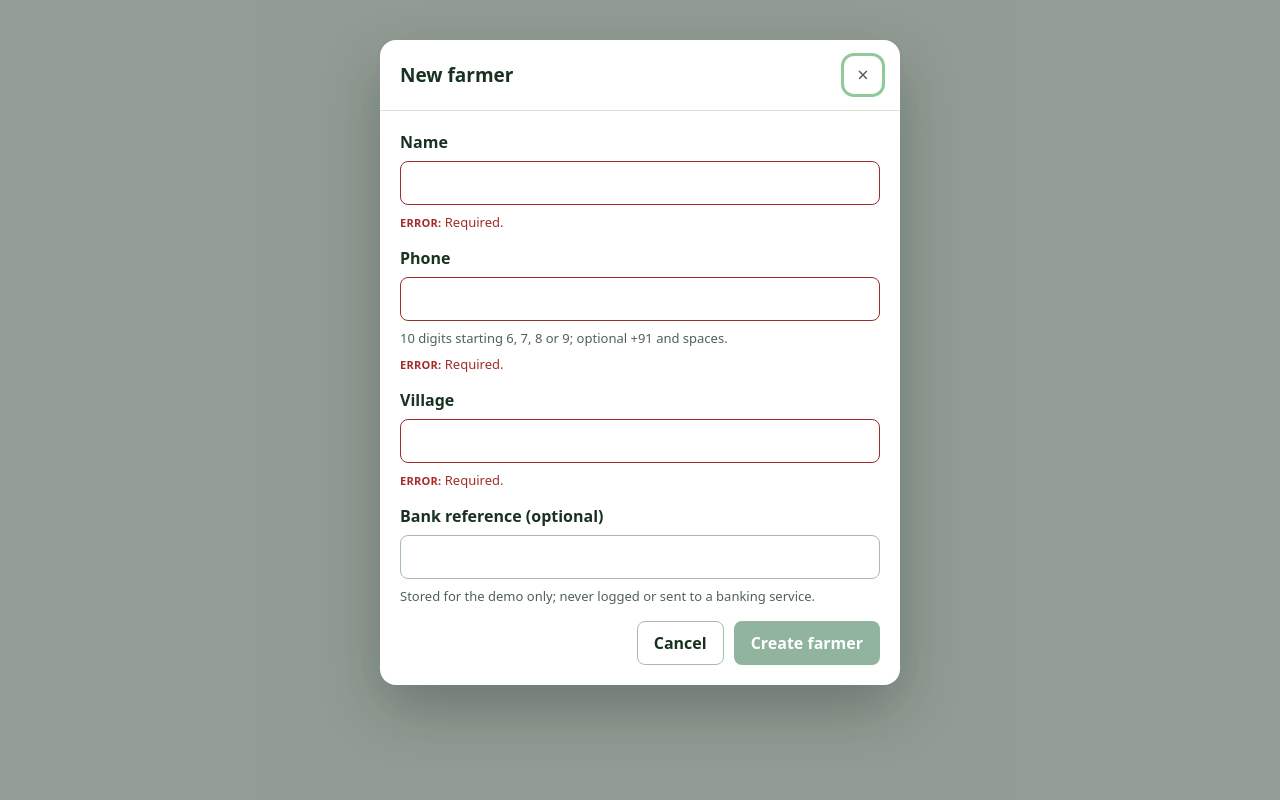
it: FarmerForm › maps a rejected phone onto its field and preserves the values
Type "Asha" into the field labelled "Name" at [640, 183], box [400,161,880,205]
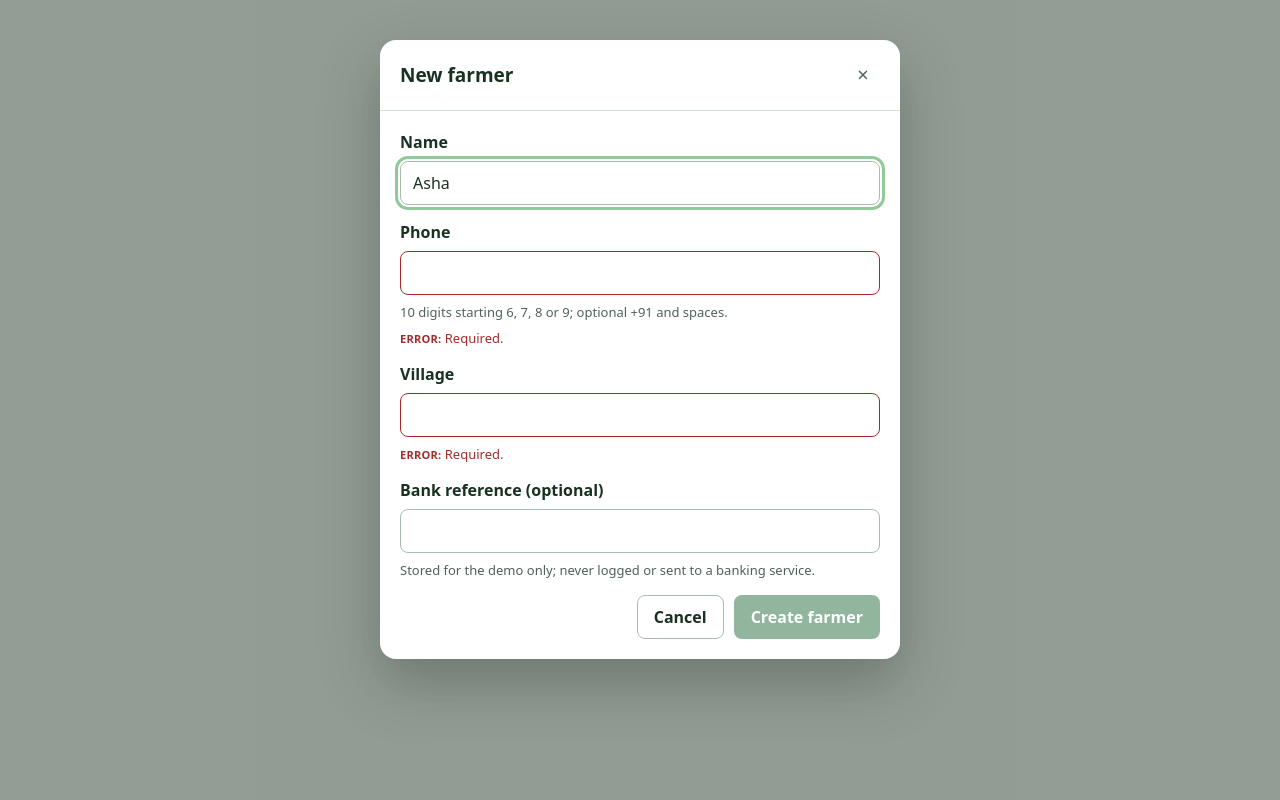
Type "9000000001" into the field labelled "Phone" at [640, 273], box [400,251,880,295]
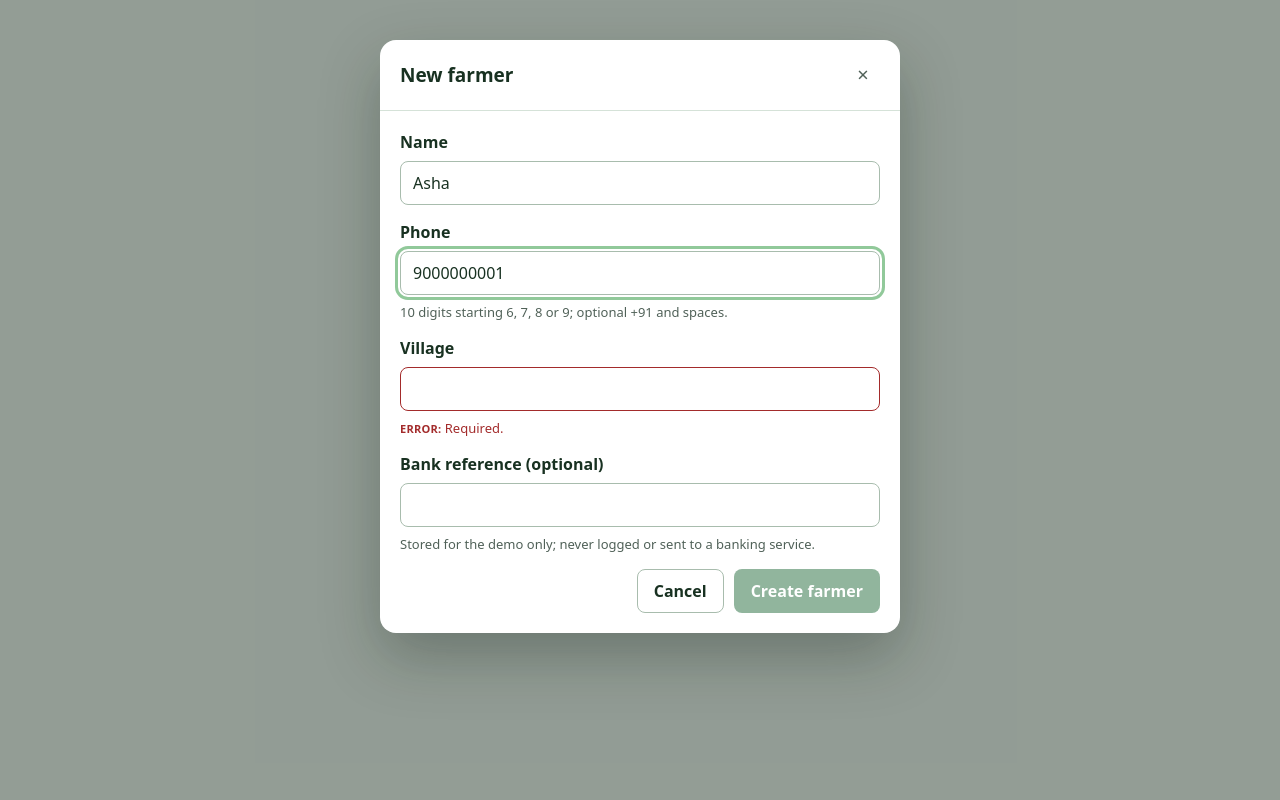
Type "Kolar" into the field labelled "Village" at [640, 389], box [400,367,880,411]
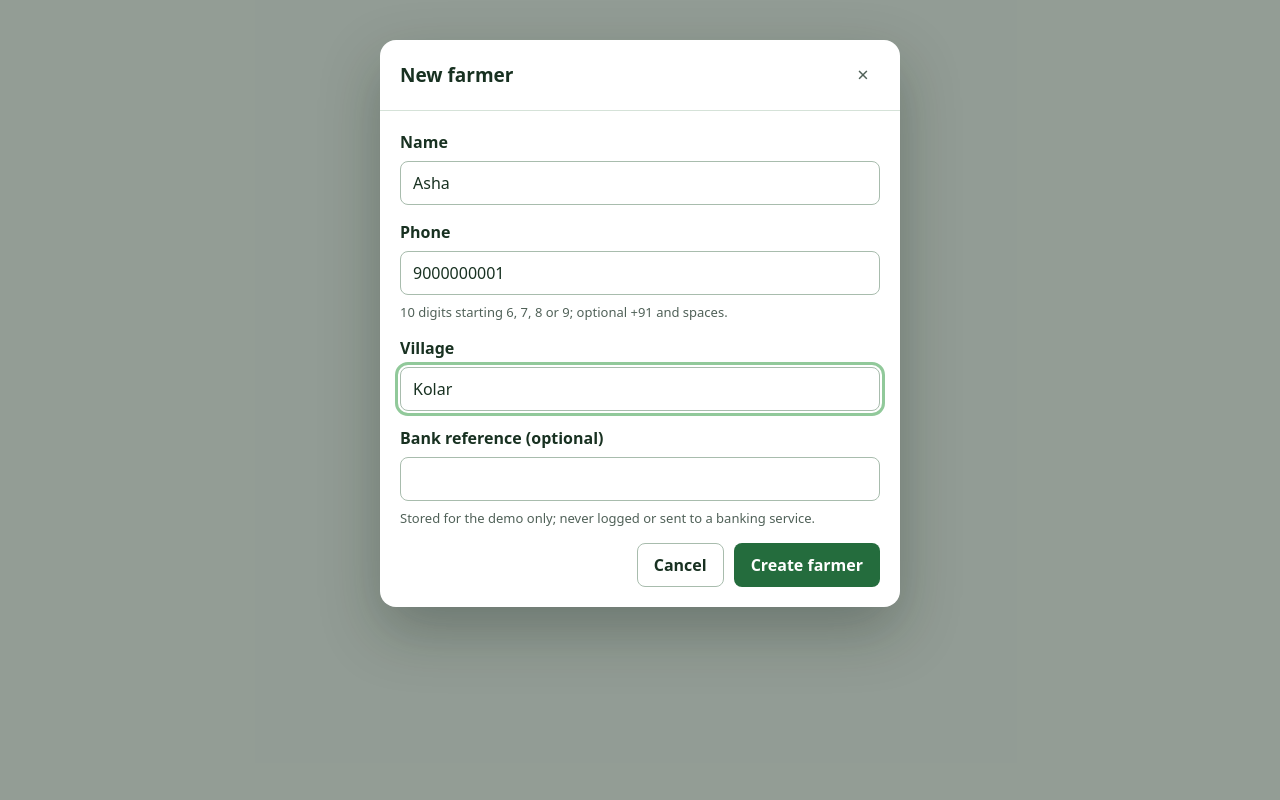
Click the button "Create farmer" at [807, 565], box [734,543,880,587]
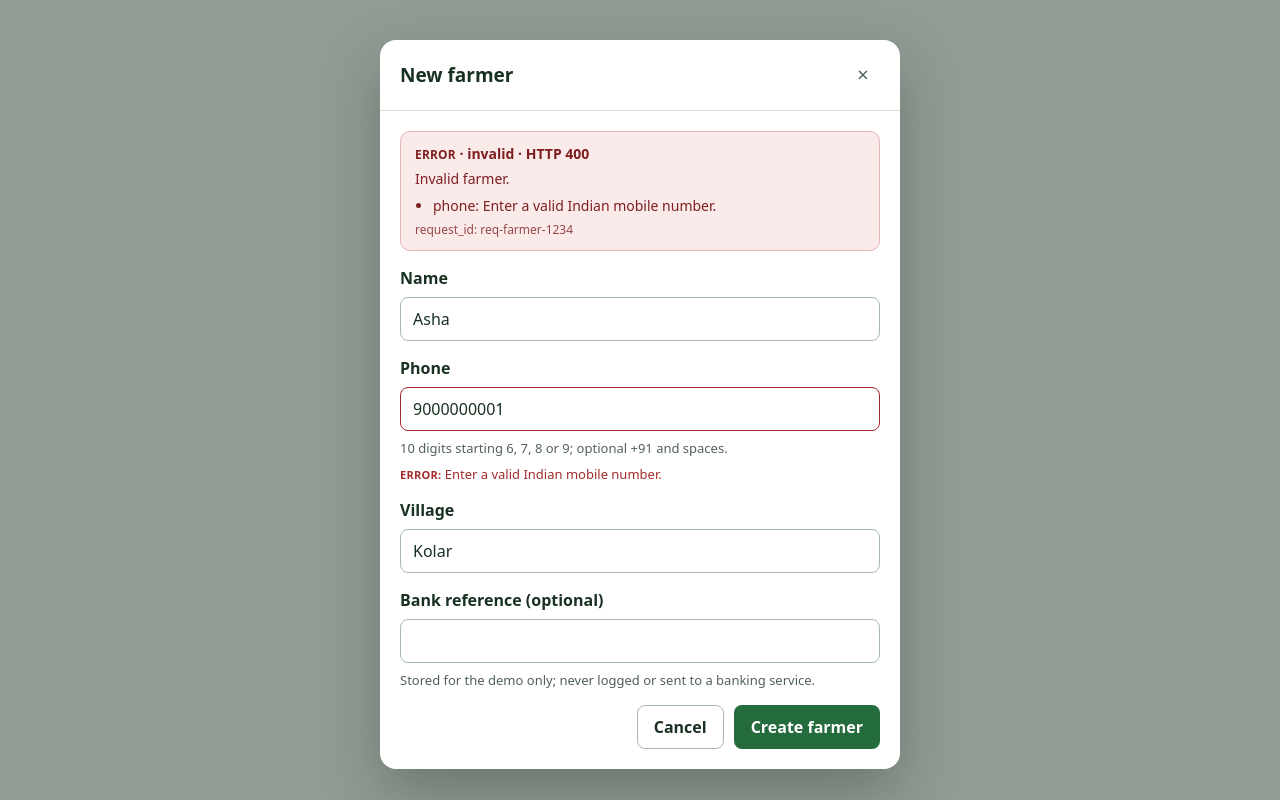
Expected: the text "request_id: req-farmer-1234" is shown, [415,221,573,238]
